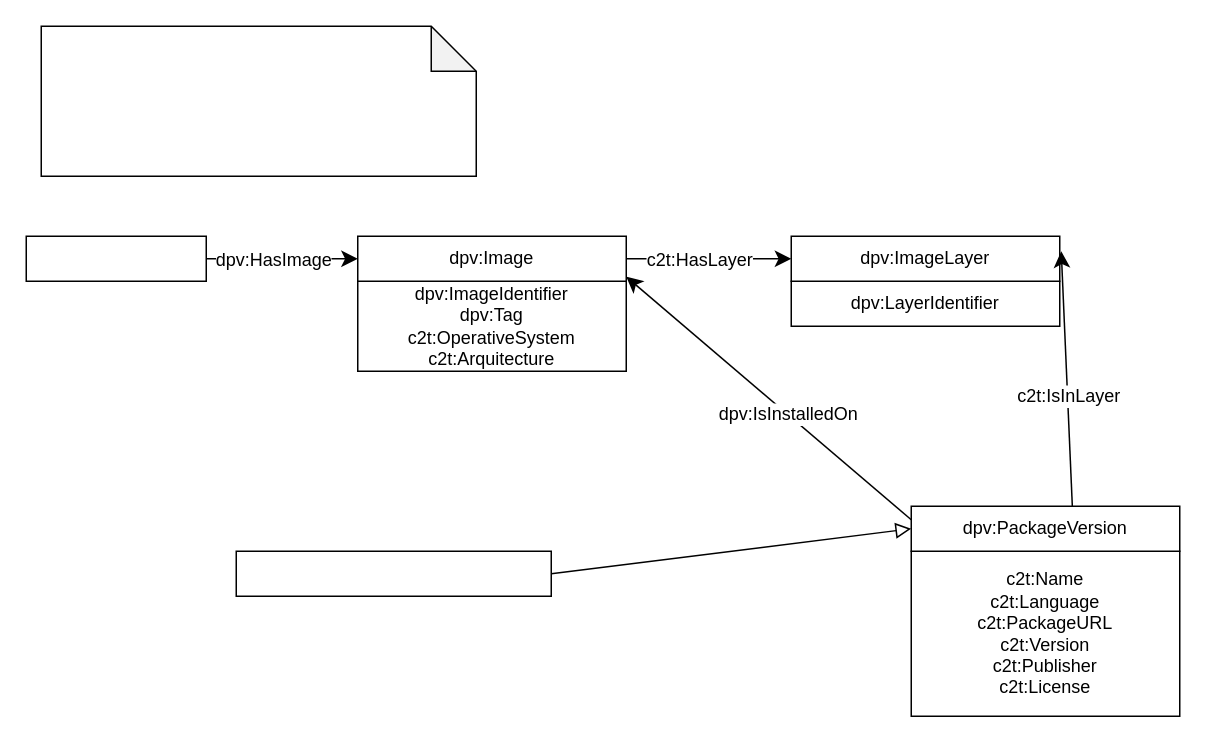
Image size: 1206x743. Some labels were removed from this diagram. Here are the shapes that lost their labels. From the top down, the box of each, then its label:
(40, 25, 476, 176): dpv : http://dockerpedia.inf.utfsm.cl/vocab# c2t : https://w3id.org/okn/o/c2t#
(25, 235, 206, 281): dpv:DockerFile
(235, 550, 551, 596): c2t:OperativeSystemPackageVersion
